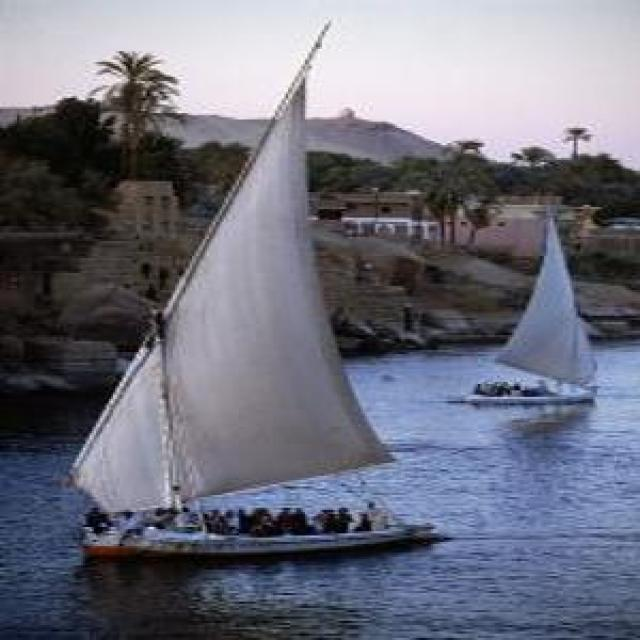sailboat: (68, 19, 443, 548), (457, 214, 608, 407)
